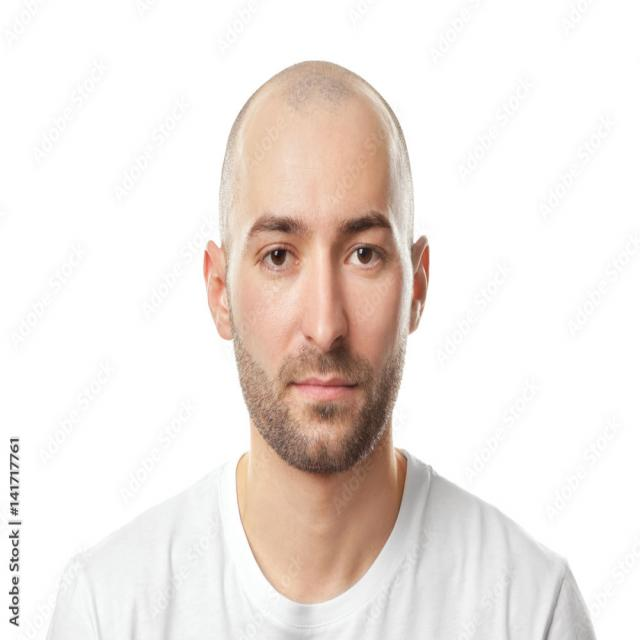bald: (196, 56, 434, 276)
